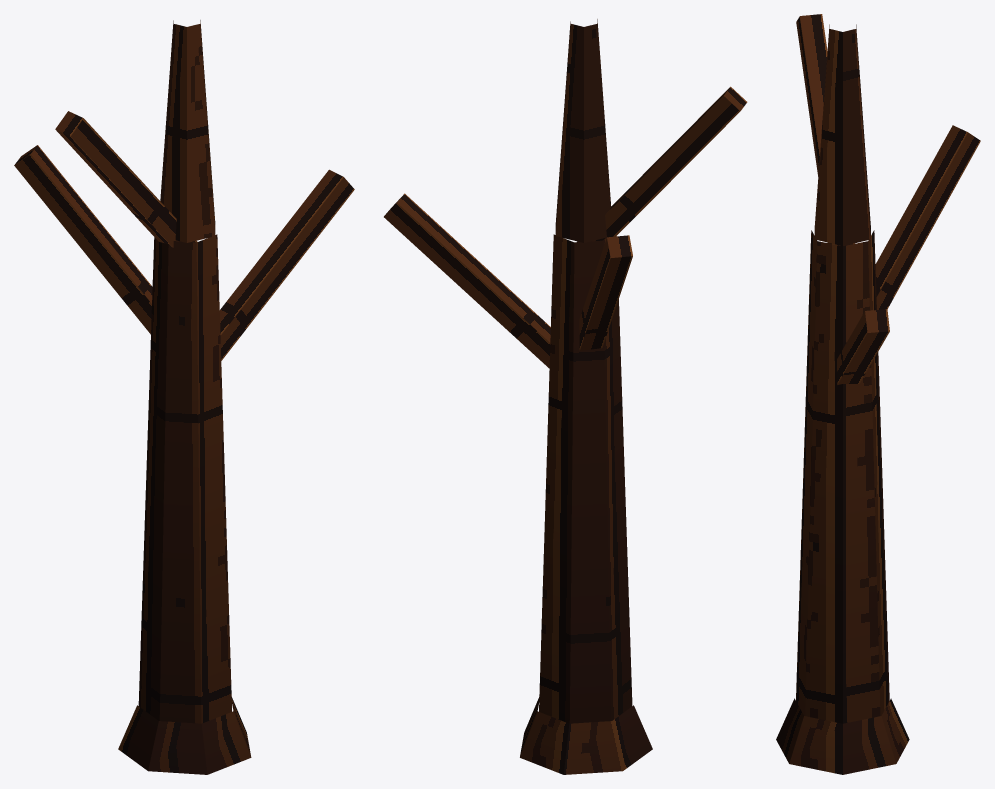
File: apple_2_trunk.glb
3 renders of one model, left to right at view 1: azimuth 30°, elevation 25°; view 2: azimuth 150°, elevation 25°; view 3: azimuth 270°, elevation 25°, orthographic.
Parts seen in each view (by area): view 1: apple_2_trunk; view 2: apple_2_trunk; view 3: apple_2_trunk.
Boxes of the visible parts, x1,y1,x2,y2 form: apple_2_trunk: (14,20,354,774); apple_2_trunk: (384,19,747,774); apple_2_trunk: (776,14,980,774).
Size of the model in its own units: 1.95 by 4.18 by 1.08.
1 material, 1 textured.
